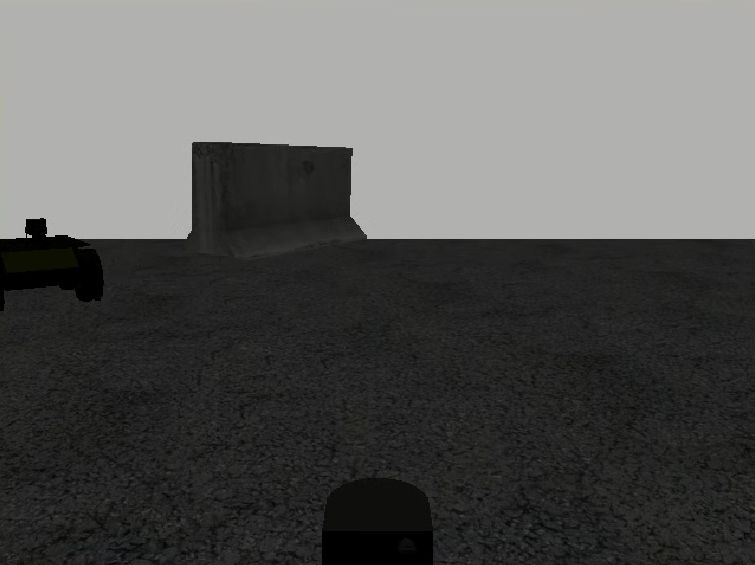husky: (1, 234, 105, 303)
